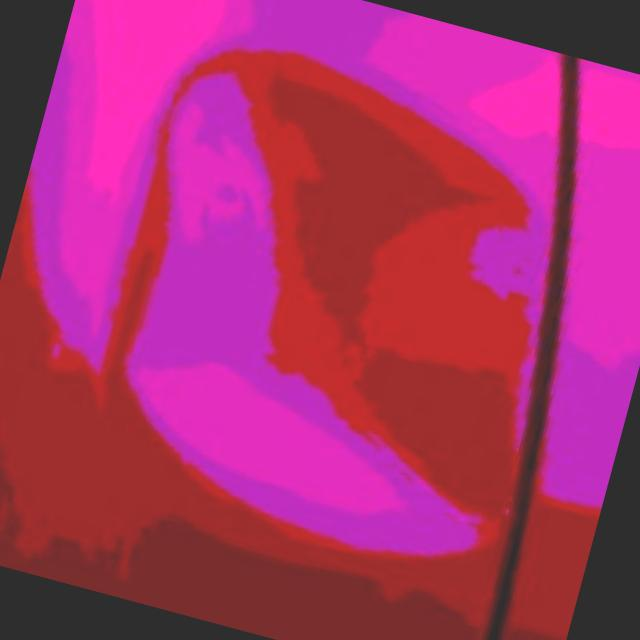dent: (69, 25, 612, 588)
